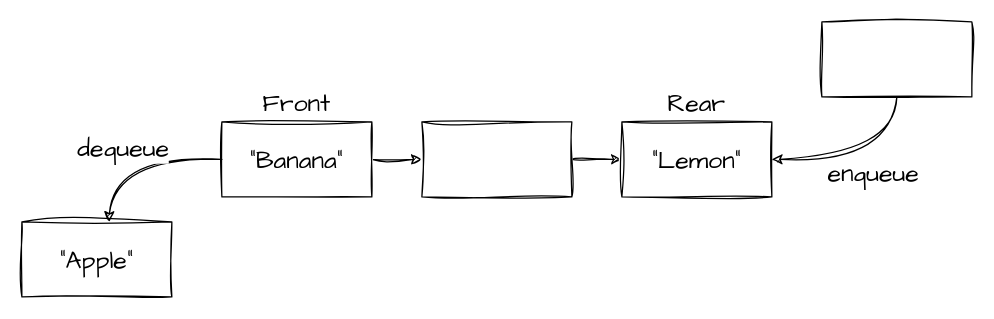
Image size: 994x319. Some labels were removed from this diagram. Here are the shapes that lost their labels. From the top down, the box of each, then its label:
(821, 21, 972, 97): "Lime"
(421, 121, 572, 197): "Orange"
